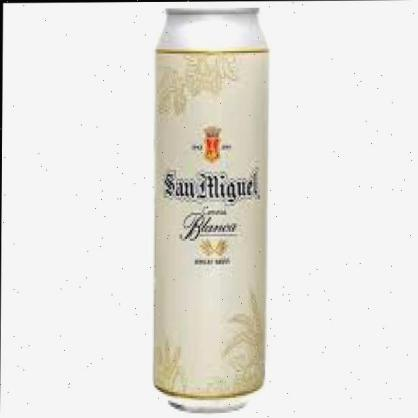can: (148, 5, 274, 416)
